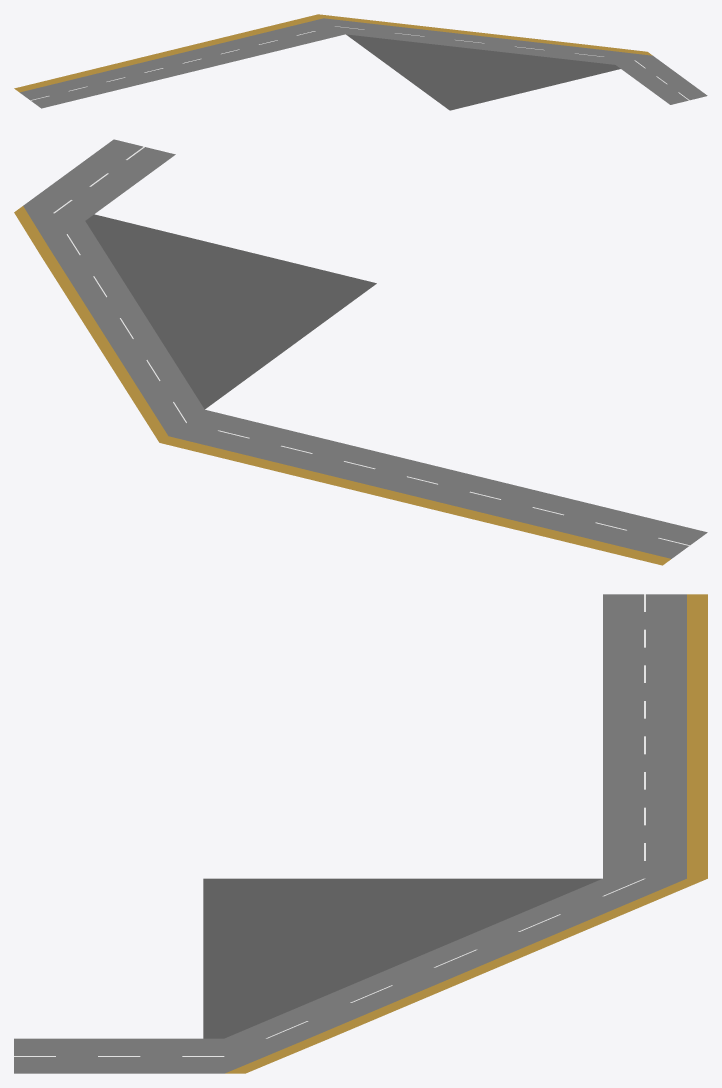
The model's file is area_bus.glb.
3 renders of one model, top to bottom at view 1: azimuth 30°, elevation 25°; view 2: azimuth 150°, elevation 25°; view 3: azimuth 270°, elevation 25°, orthographic. The views are drawn at different scales.
Visible parts, largest first — view 1: Plane; view 2: Plane; view 3: Plane.
Boxes of the visible parts, left/top/right/bottom form: Plane: left=14, top=14, right=707, bottom=110; Plane: left=14, top=139, right=707, bottom=565; Plane: left=14, top=594, right=707, bottom=1073.
Size of what is drawn, in the model's own units: 108 by 0 by 66.
